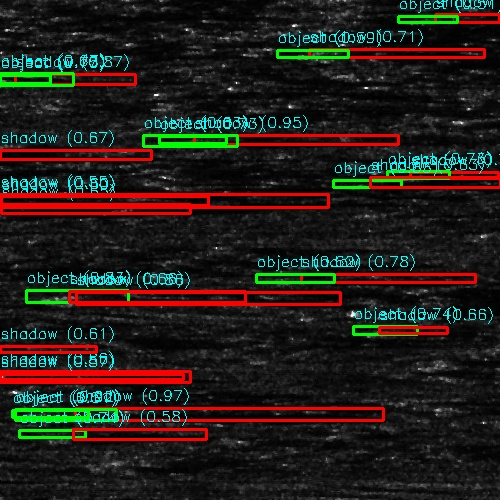rock: (34, 288, 127, 305), (250, 47, 333, 60), (163, 135, 226, 146), (76, 333, 139, 344), (23, 412, 106, 419), (390, 170, 453, 179), (152, 115, 225, 122), (353, 327, 426, 334), (0, 74, 51, 83), (0, 201, 23, 214), (271, 99, 324, 104), (336, 180, 389, 185), (0, 195, 19, 204), (265, 339, 318, 342), (0, 181, 9, 188), (65, 434, 86, 437), (368, 212, 389, 215)
shadow: (81, 288, 369, 305), (0, 195, 332, 204), (195, 135, 454, 146), (292, 47, 500, 60), (0, 201, 183, 214), (65, 412, 344, 419), (5, 74, 194, 83), (108, 333, 222, 344), (0, 262, 122, 271), (0, 374, 156, 381), (0, 181, 155, 188), (189, 115, 321, 122), (422, 170, 500, 179), (298, 99, 435, 104), (363, 180, 500, 185), (292, 339, 473, 342), (390, 327, 452, 334), (76, 434, 187, 437), (0, 473, 42, 480), (379, 212, 445, 215)
